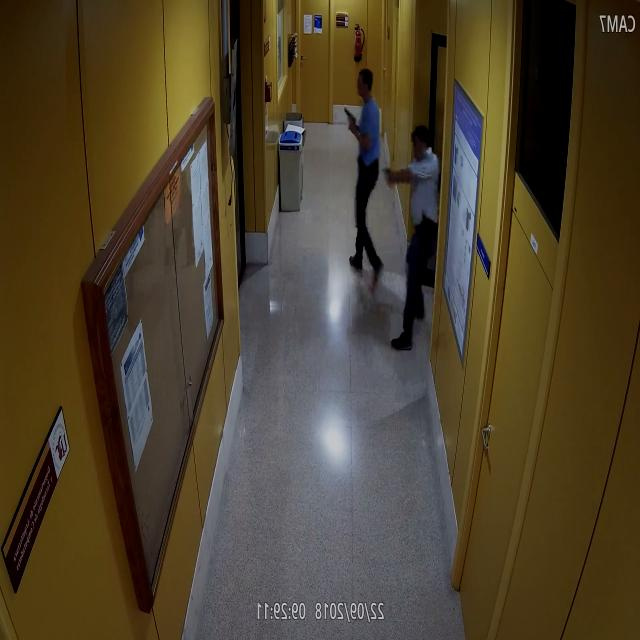pistol: (343, 105, 358, 136), (383, 166, 396, 188)
